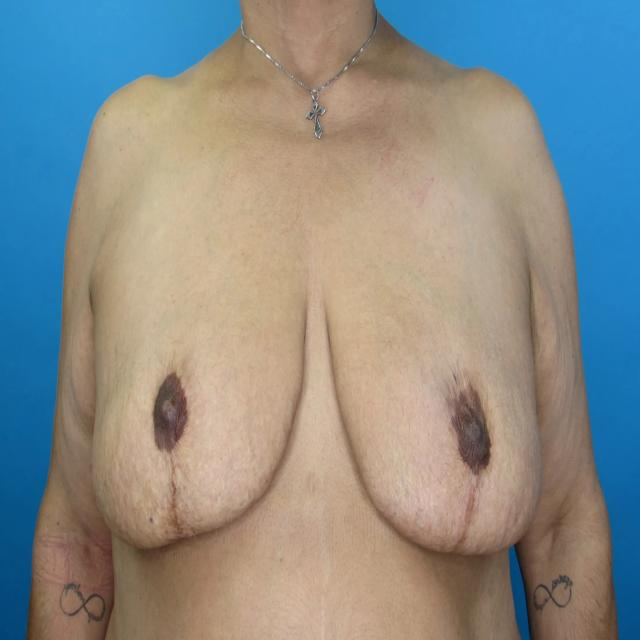Seno herido: (318, 249, 548, 570), (87, 247, 314, 566)
